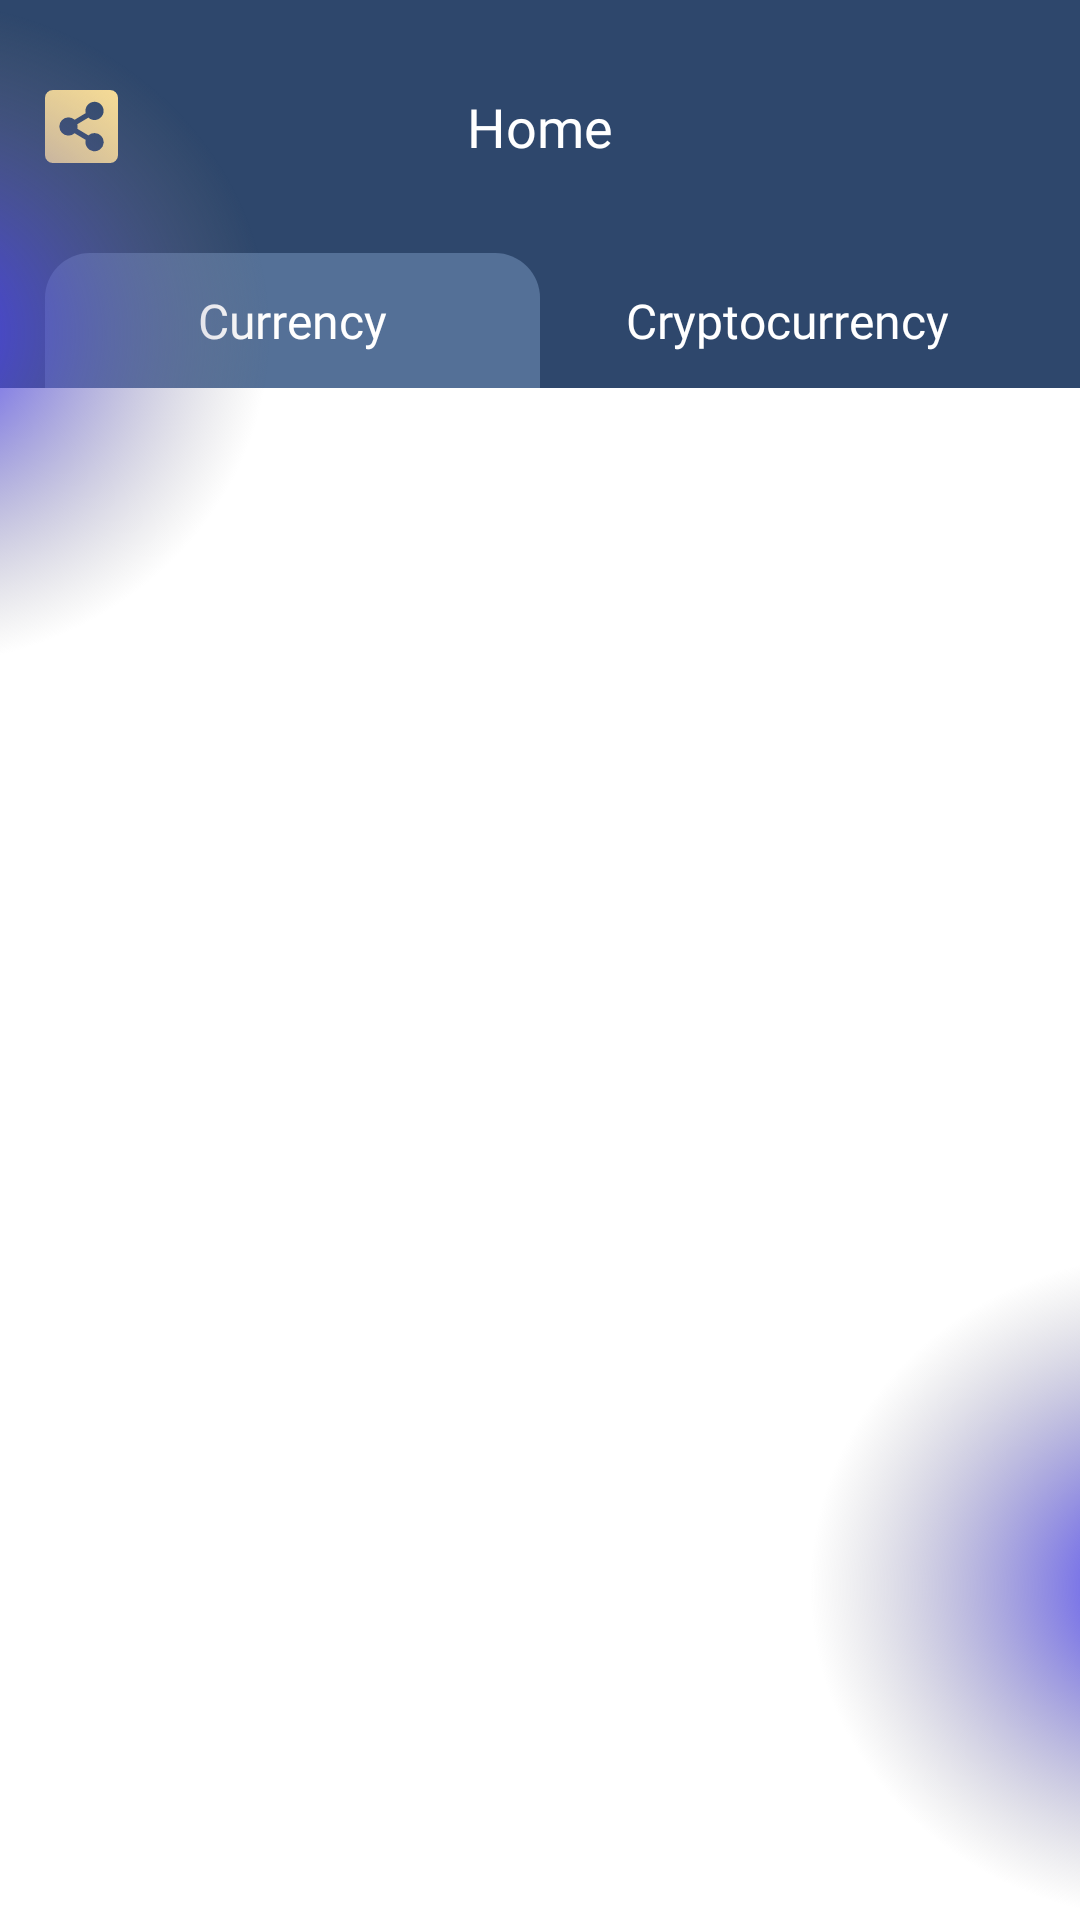

Icon click points for this 1080px×1920px phone screenshot, format [x,y]:
share: [81,126]
